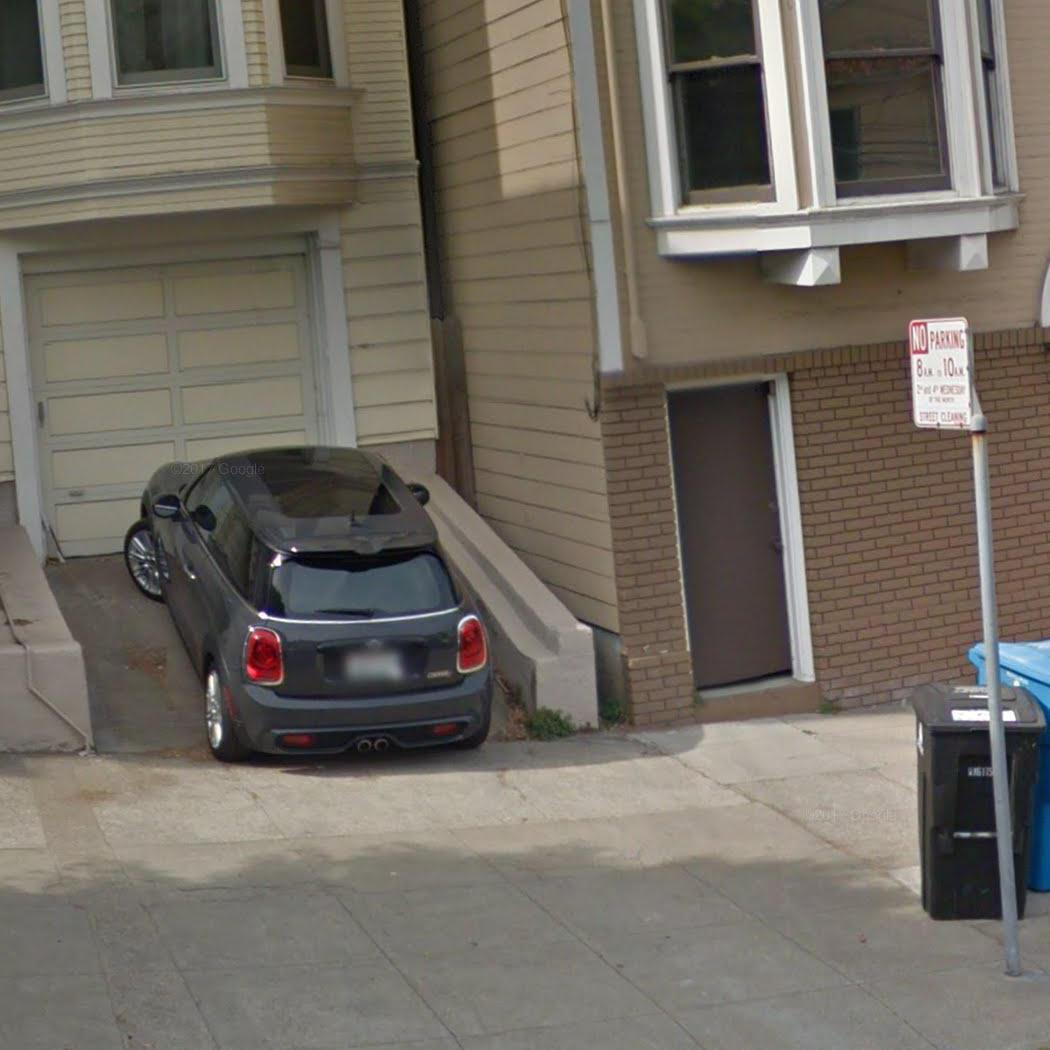No Parking: (903, 311, 981, 436)
